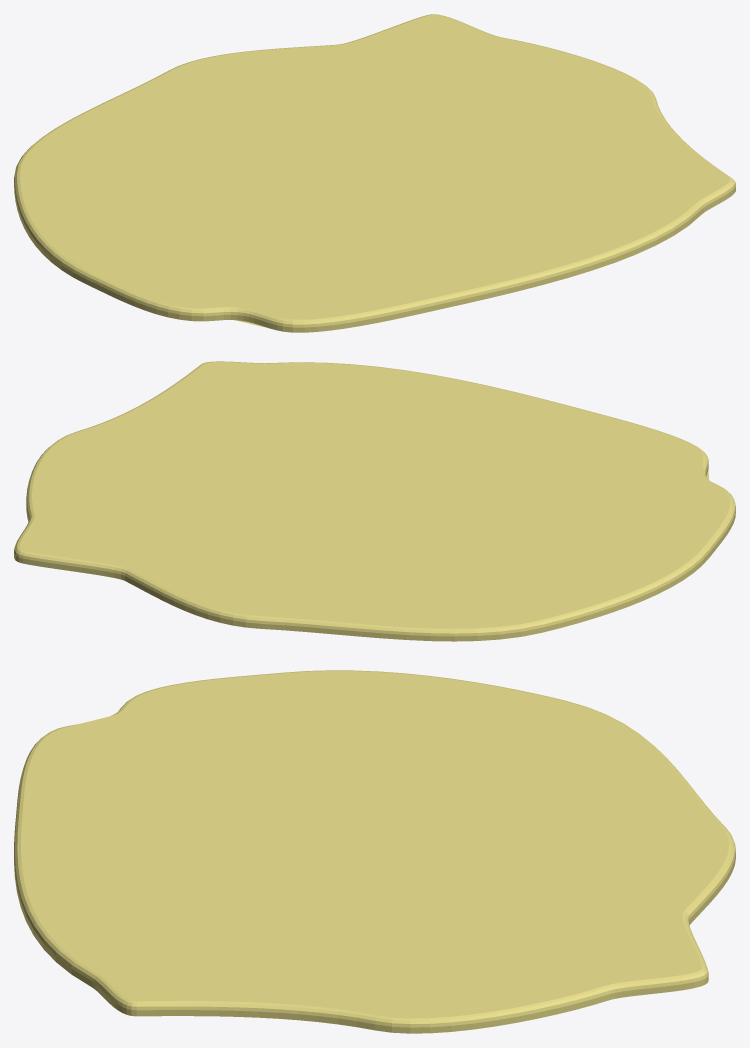
File: exchange shop base.fbx
3 renders of one model, top to bottom at view 1: azimuth 30°, elevation 25°; view 2: azimuth 150°, elevation 25°; view 3: azimuth 270°, elevation 25°, orthographic. The views are drawn at different scales.
Parts seen in each view (by area): view 1: BezierCurve.004; view 2: BezierCurve.004; view 3: BezierCurve.004.
Part boxes in pixels (left/top/right/bottom): BezierCurve.004: left=14, top=14, right=735, bottom=332; BezierCurve.004: left=14, top=361, right=735, bottom=641; BezierCurve.004: left=14, top=670, right=735, bottom=1033.
Bounding box in the file's own units: 22373 × 362 × 19317.
